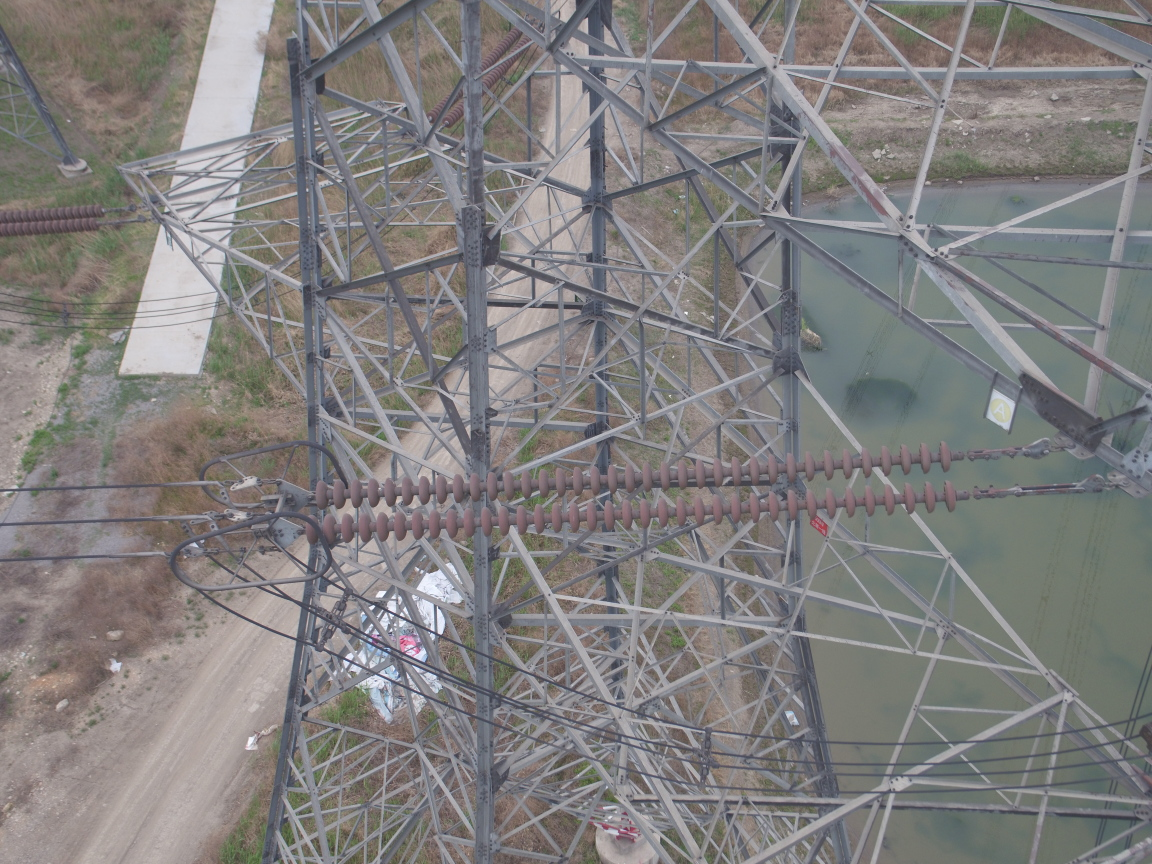insulator: (289, 438, 1018, 550), (1, 201, 125, 238)
